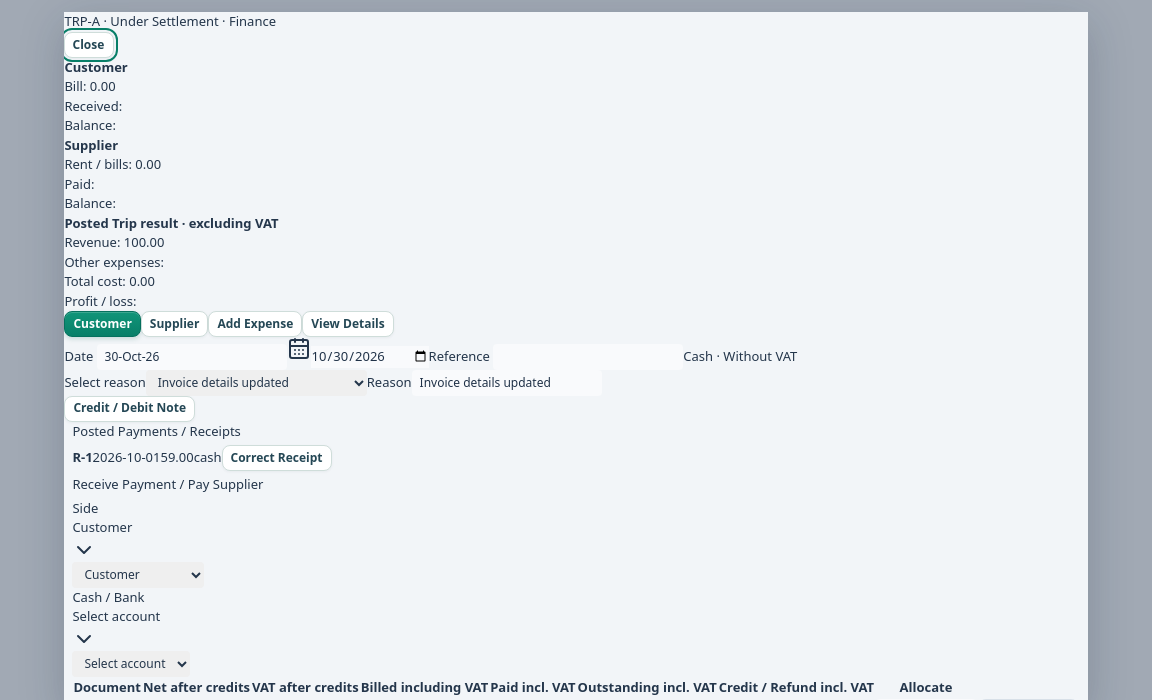
Transport canonical finance controls › retains a failed settlement correction instead of closing its form
Click the button "Correct Receipt" at (277, 458), box left=222, top=445, right=332, bottom=471
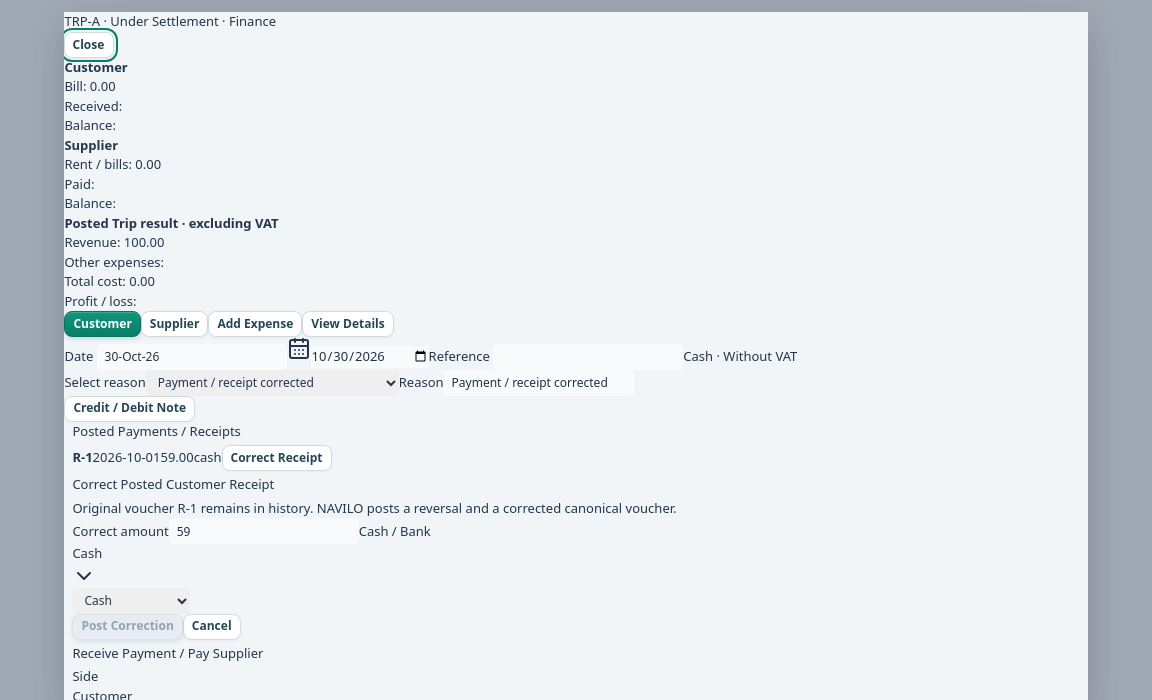
Replace the text in the number field labelled "Correct amount" with "50" at (264, 531), box left=169, top=518, right=359, bottom=544
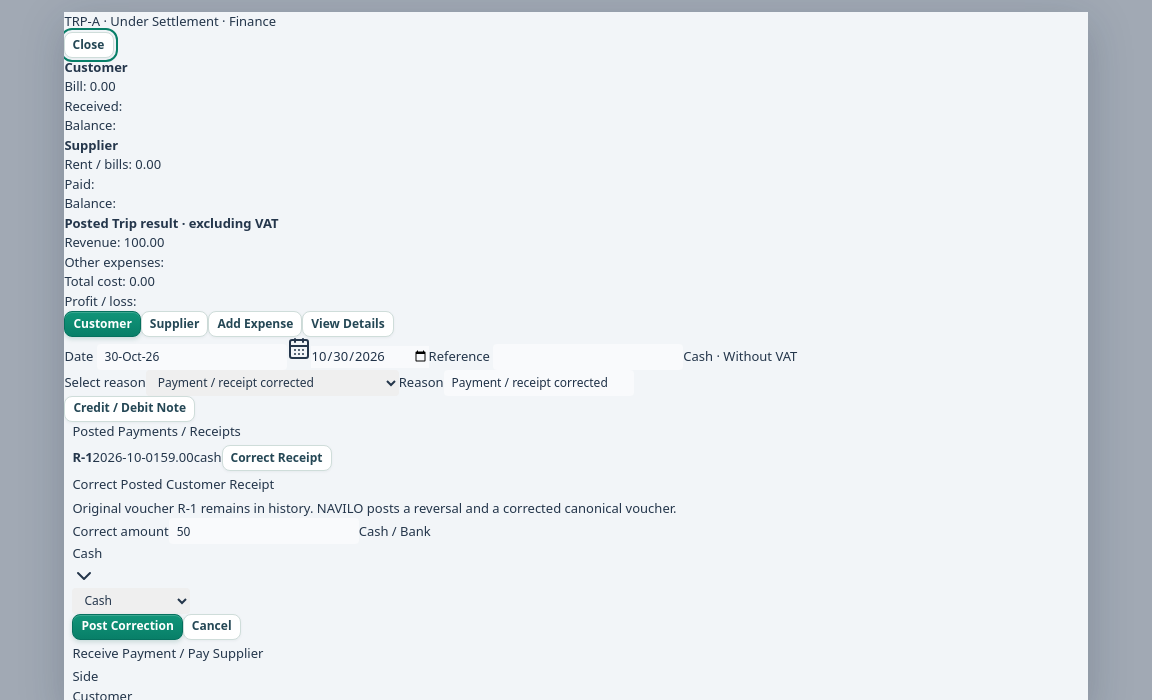
Replace the text in the field labelled "Reason" with "Amount correction" at (539, 382), box left=444, top=370, right=634, bottom=396
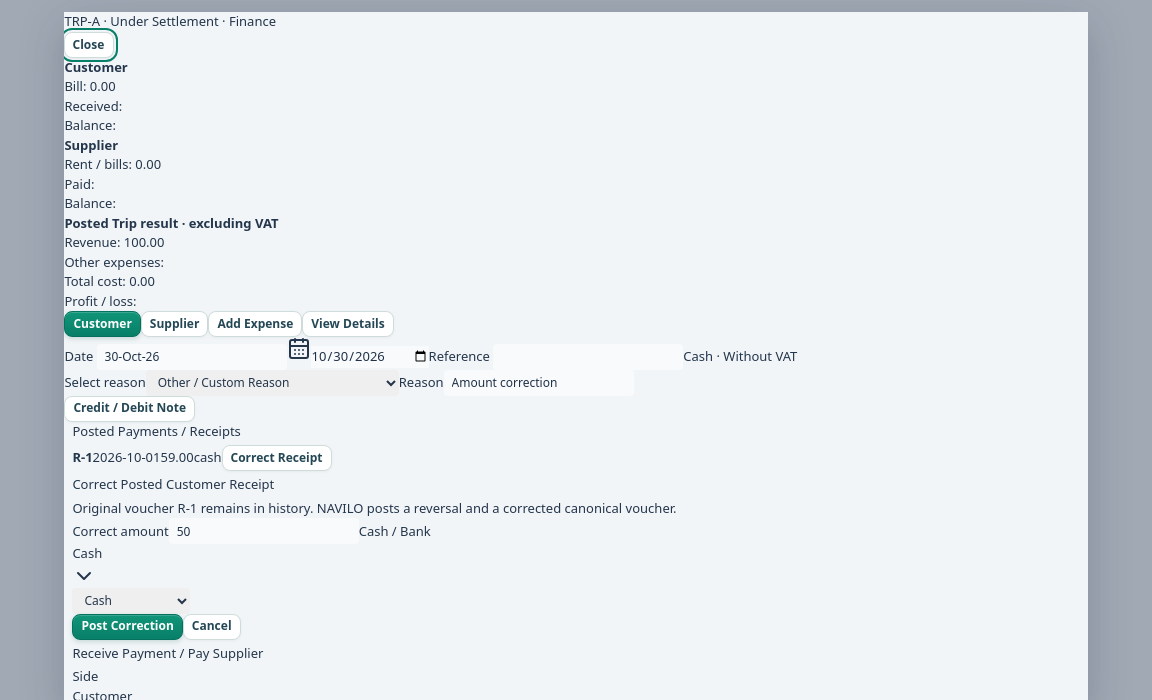
Click the button "Post Correction" at (128, 626), box left=72, top=614, right=183, bottom=640
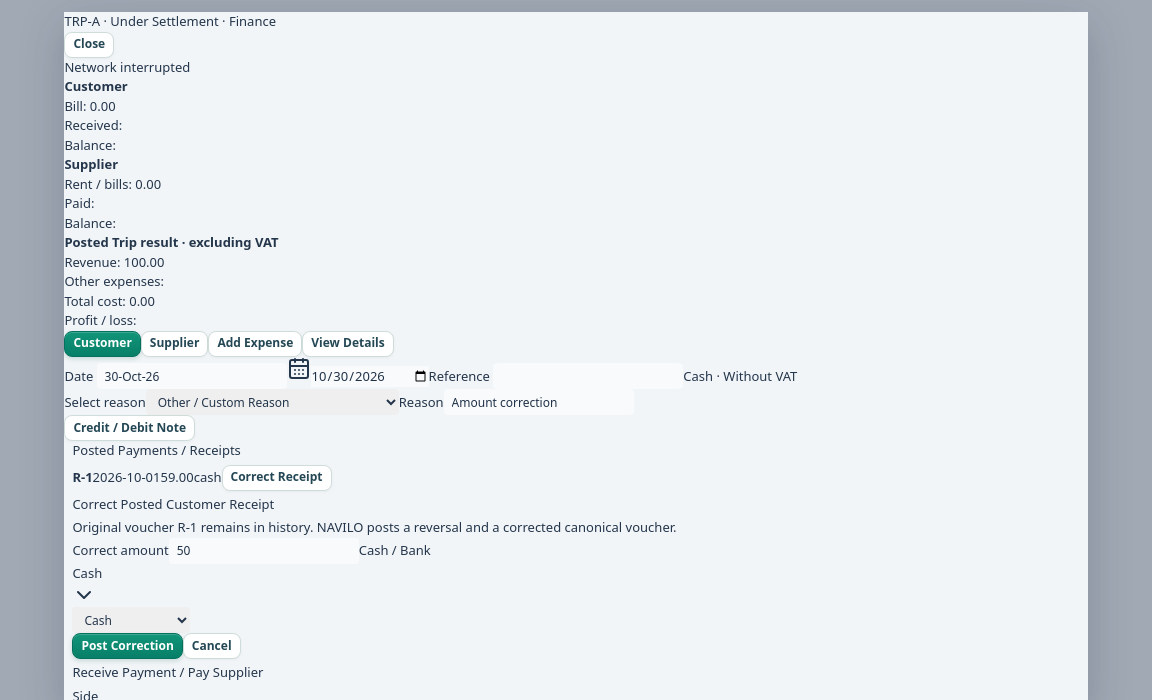
Now the text "Network interrupted" is shown, box left=64, top=58, right=190, bottom=76
